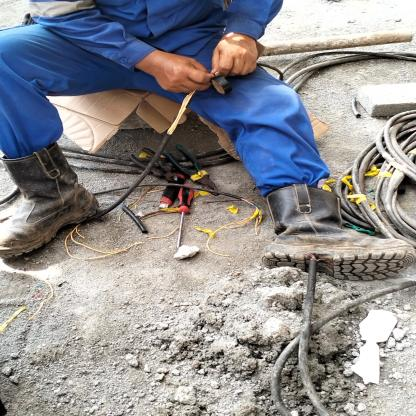bota: (262, 183, 416, 275), (0, 143, 105, 258)
